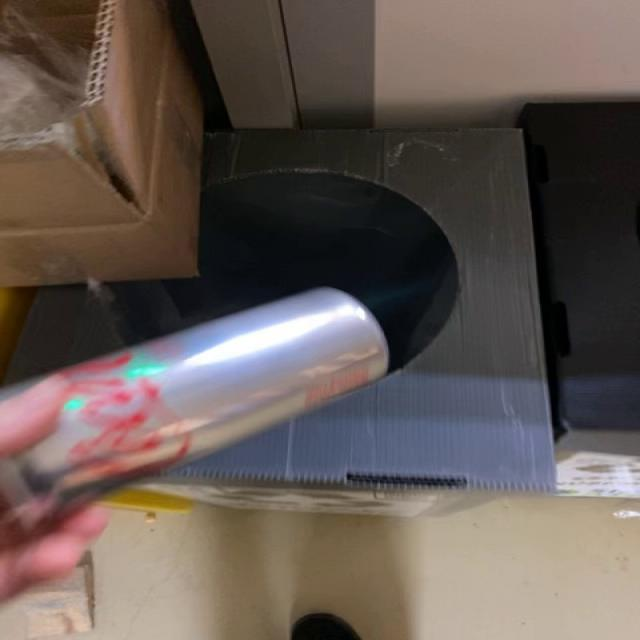bin: (8, 129, 555, 516)
metal: (1, 288, 389, 548)
